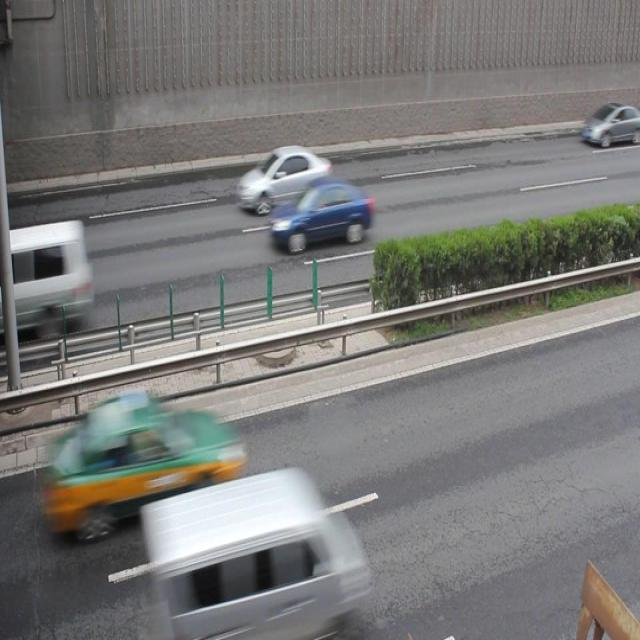car: (58, 390, 245, 531), (268, 174, 374, 251), (238, 142, 332, 214), (580, 100, 640, 148)
truck: (143, 463, 358, 640), (0, 219, 90, 331)
